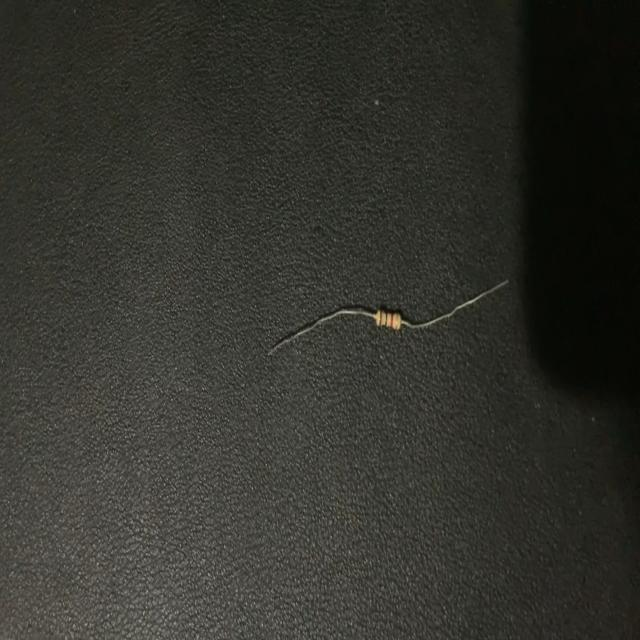resistor: (262, 270, 516, 367)
